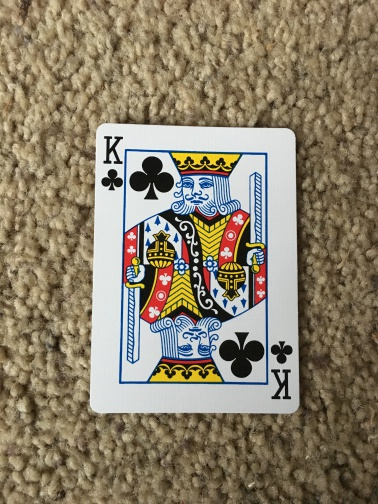king: (88, 121, 300, 414)
